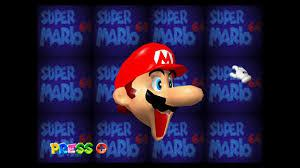poggers: (116, 43, 201, 142)
